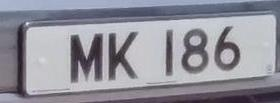1: (155, 21, 183, 84)
6: (211, 21, 243, 75)
8: (177, 21, 214, 77)
K: (104, 26, 144, 89)
M: (62, 27, 108, 88)
